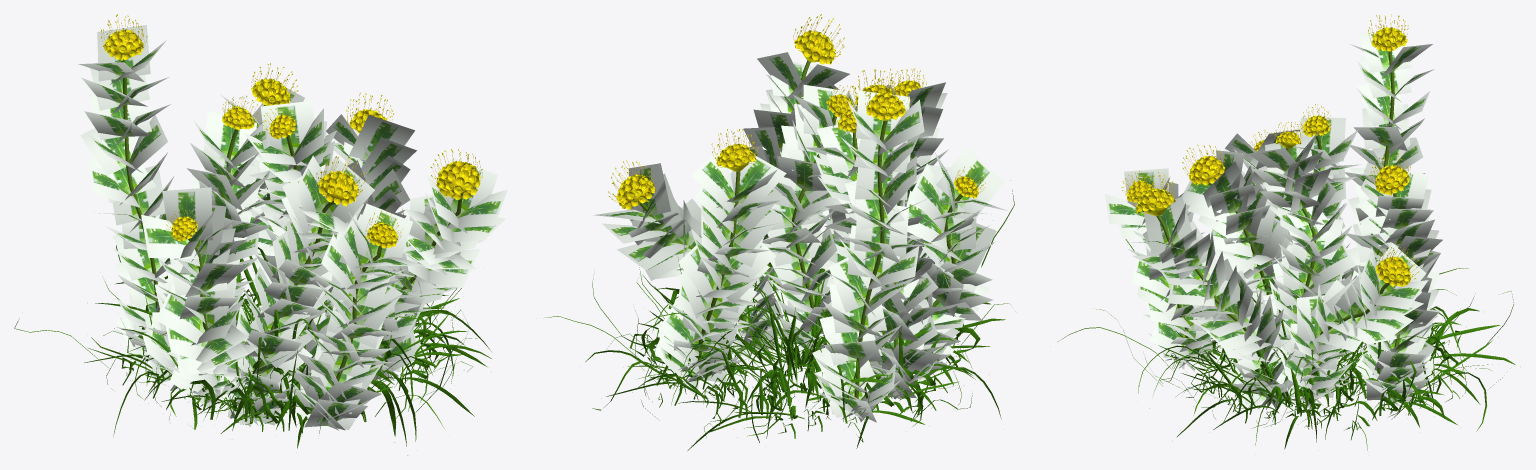
File: yellow_pincushion_flower.glb
3 views of the same model, side by side, from view 1: azimuth 30°, elevation 25°; view 2: azimuth 150°, elevation 25°; view 3: azimuth 270°, elevation 25° (orthographic). The views are drawn at different scales.
Parts seen in each view (by area): view 1: Leaf_2_yellow_6, L_B_2_yellow_5, F_Bud_F_Bud_BaseColor_yellow_4, Bark_yellow_3; view 2: Leaf_2_yellow_6, L_B_2_yellow_5, F_Bud_F_Bud_BaseColor_yellow_4, Bark_yellow_3; view 3: Leaf_2_yellow_6, L_B_2_yellow_5, F_Bud_F_Bud_BaseColor_yellow_4, Bark_yellow_3.
Boxes of the visible parts, x1,y1,x2,y2 form: Leaf_2_yellow_6: (78, 25, 507, 430); L_B_2_yellow_5: (14, 209, 491, 455); F_Bud_F_Bud_BaseColor_yellow_4: (101, 14, 482, 248); Bark_yellow_3: (121, 59, 462, 425); Leaf_2_yellow_6: (593, 52, 1007, 422); L_B_2_yellow_5: (545, 189, 1014, 450); F_Bud_F_Bud_BaseColor_yellow_4: (608, 14, 985, 209); Bark_yellow_3: (639, 60, 962, 398); Leaf_2_yellow_6: (1105, 32, 1442, 409); L_B_2_yellow_5: (1058, 217, 1515, 450); F_Bud_F_Bud_BaseColor_yellow_4: (1121, 14, 1418, 287); Bark_yellow_3: (1143, 51, 1399, 397).
Bounding box in the file's own units: 1.05 × 0.9329 × 1.18.
Materials: 4 (4 with a texture image).
